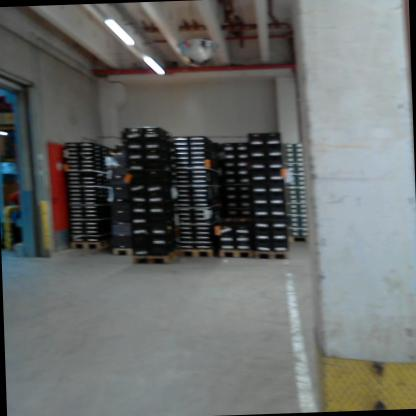pallet: (131, 245, 182, 267), (256, 245, 292, 265), (179, 247, 219, 263), (68, 238, 106, 253), (219, 247, 256, 262), (110, 243, 136, 259), (287, 233, 310, 250)
